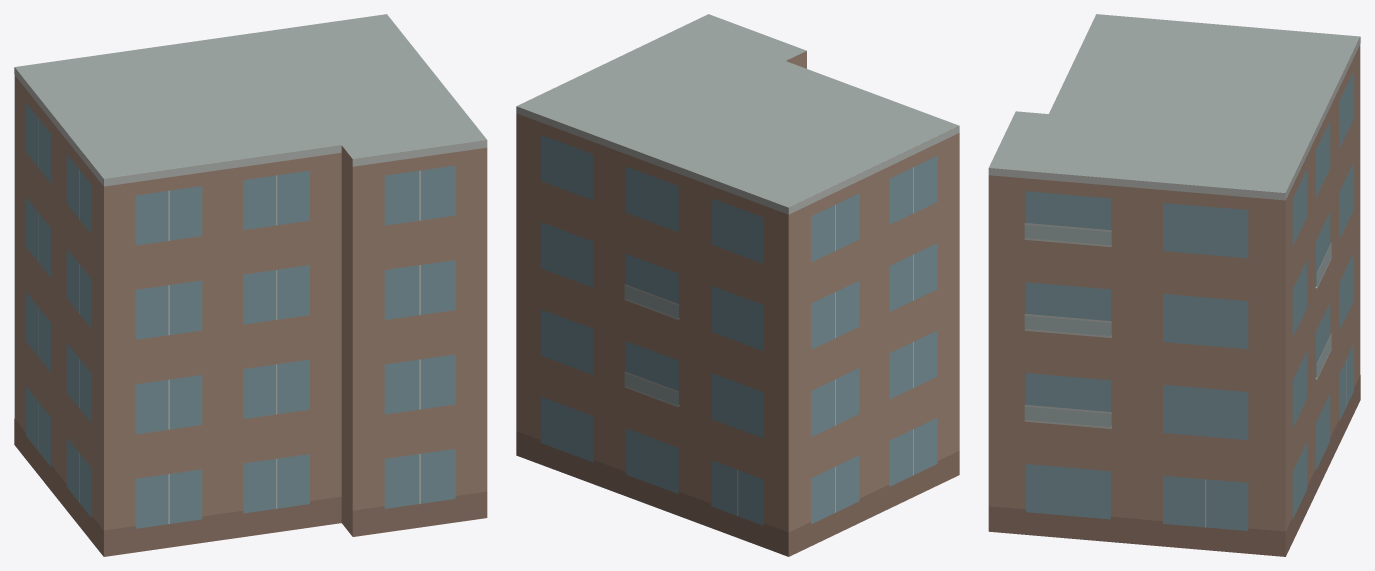
File: residential-79cbeabe-4942-4b47-9d23-8de90a203c25.glb
3 renders of one model, left to right at view 1: azimuth 30°, elevation 25°; view 2: azimuth 150°, elevation 25°; view 3: azimuth 270°, elevation 25°, orthographic. The views are drawn at different scales.
Parts seen in each view (by area): view 1: residential-79cbeabe-4942-4b47-9d23-8de90a203c25.tmp; view 2: residential-79cbeabe-4942-4b47-9d23-8de90a203c25.tmp; view 3: residential-79cbeabe-4942-4b47-9d23-8de90a203c25.tmp.
Part boxes in pixels (x1=…): residential-79cbeabe-4942-4b47-9d23-8de90a203c25.tmp: x1=14, y1=14, x2=487, y2=556; residential-79cbeabe-4942-4b47-9d23-8de90a203c25.tmp: x1=516, y1=14, x2=959, y2=556; residential-79cbeabe-4942-4b47-9d23-8de90a203c25.tmp: x1=988, y1=14, x2=1360, y2=556.
Bounding box in the file's own units: 12.9 × 12.2 × 11.31.
